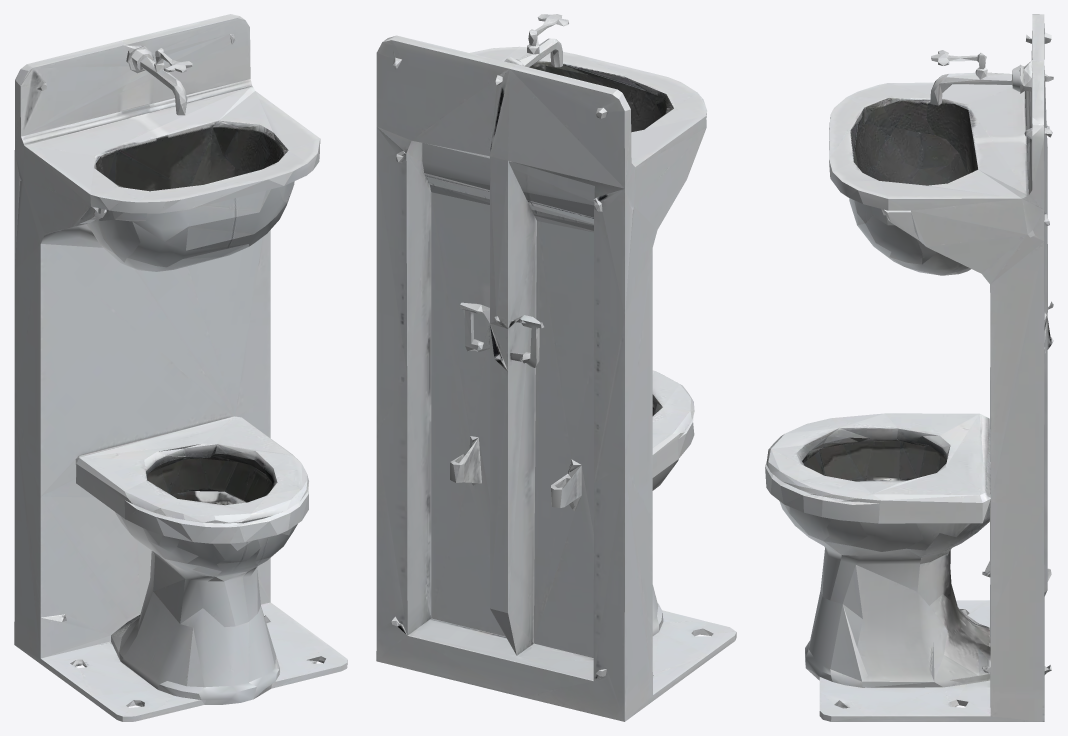
The model's file is cell_toilet.glb.
The picture shows the model from 3 angles, left to right: view 1: azimuth 30°, elevation 25°; view 2: azimuth 150°, elevation 25°; view 3: azimuth 270°, elevation 25°; orthographic projection. The views are drawn at different scales.
Size of the model in its own units: 0.7818 by 1.9 by 0.8145.
Materials: 1 (1 with a texture image).
